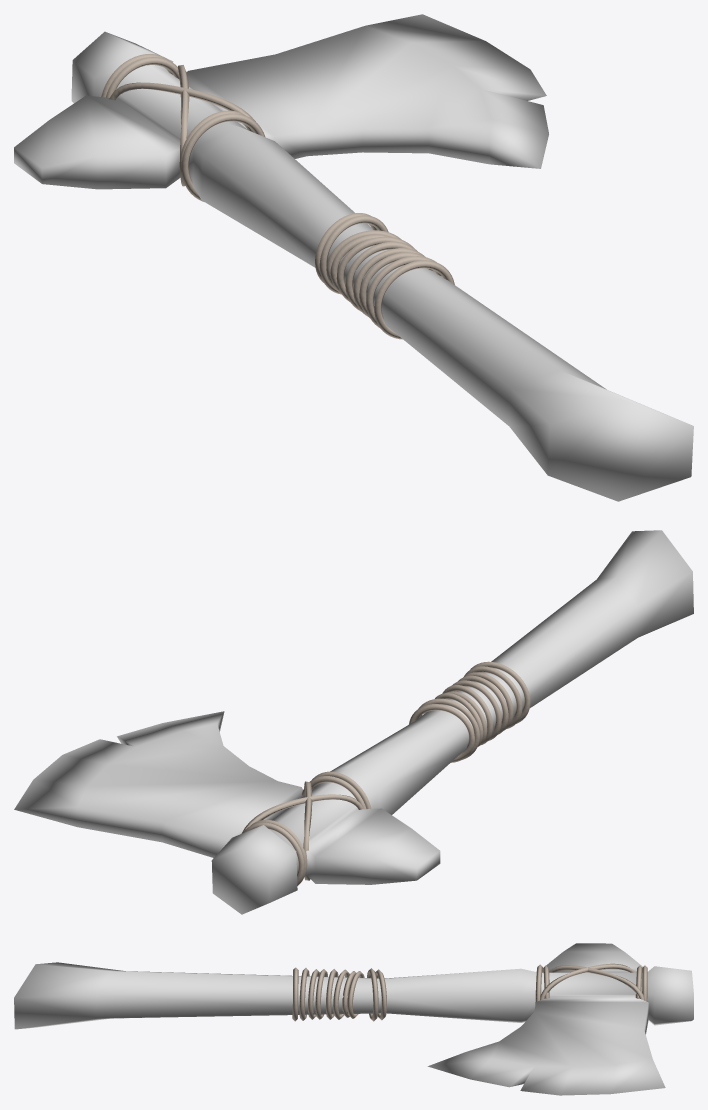
File: stone_axe_bakery.dae
The picture shows the model from 3 angles, top to bottom: view 1: azimuth 30°, elevation 25°; view 2: azimuth 150°, elevation 25°; view 3: azimuth 270°, elevation 25°; orthographic projection. The views are drawn at different scales.
Parts seen in each view (by area): view 1: AxeLash; view 2: AxeLash; view 3: AxeLash.
Boxes of the visible parts, <box> form: AxeLash: <box>14,14,693,501</box>; AxeLash: <box>14,530,693,914</box>; AxeLash: <box>14,943,693,1095</box>.
Bounding box in the file's own units: 1.64 × 3.2 × 0.3352.
